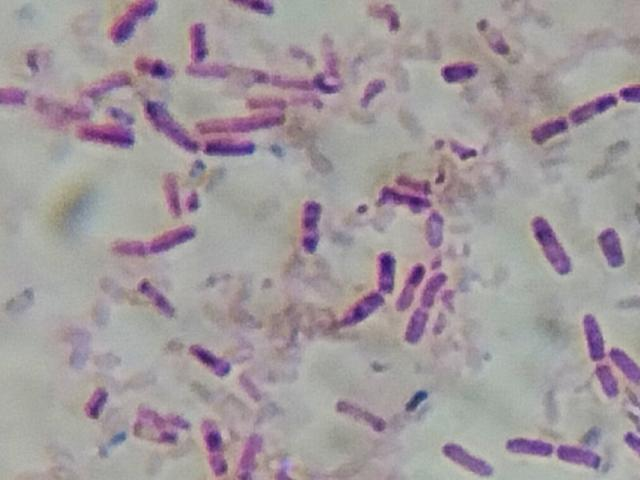E. coli: (114, 225, 205, 254), (530, 209, 570, 272), (147, 105, 194, 152), (197, 416, 233, 474), (198, 110, 290, 132), (335, 399, 389, 435), (440, 440, 495, 475), (340, 286, 384, 326), (70, 121, 128, 151), (568, 88, 615, 124), (237, 427, 268, 480), (190, 341, 232, 380), (300, 195, 327, 254), (135, 279, 176, 317), (507, 429, 557, 460), (113, 1, 156, 37), (437, 54, 481, 89), (560, 439, 605, 473), (397, 255, 424, 308), (381, 179, 424, 212), (420, 204, 450, 249), (609, 342, 640, 384), (527, 111, 567, 143), (576, 310, 606, 352), (372, 248, 400, 289), (419, 268, 450, 304), (199, 140, 252, 161), (406, 305, 432, 344), (84, 382, 108, 423), (225, 0, 290, 14), (163, 170, 184, 210), (133, 57, 168, 80), (594, 367, 618, 399), (193, 29, 217, 57), (619, 79, 640, 105)
